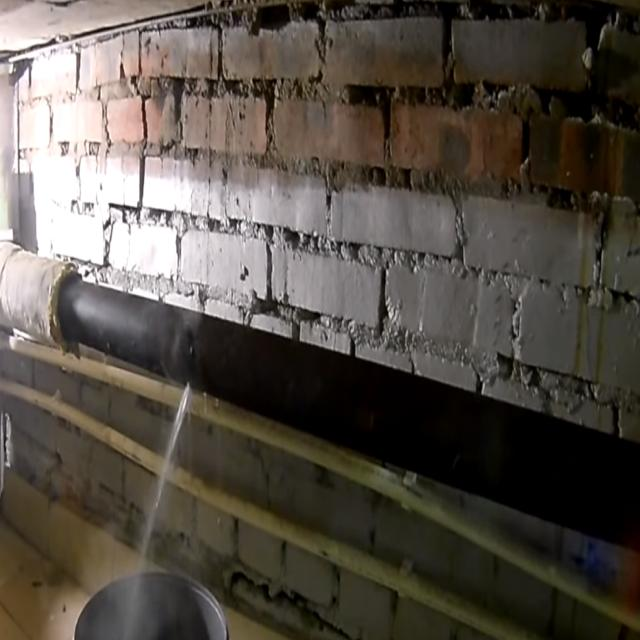leak: (114, 382, 193, 640)
